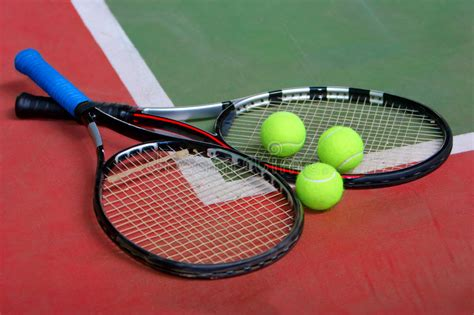tennis_ball: (295, 162, 344, 211), (317, 125, 364, 172), (259, 111, 306, 156)
